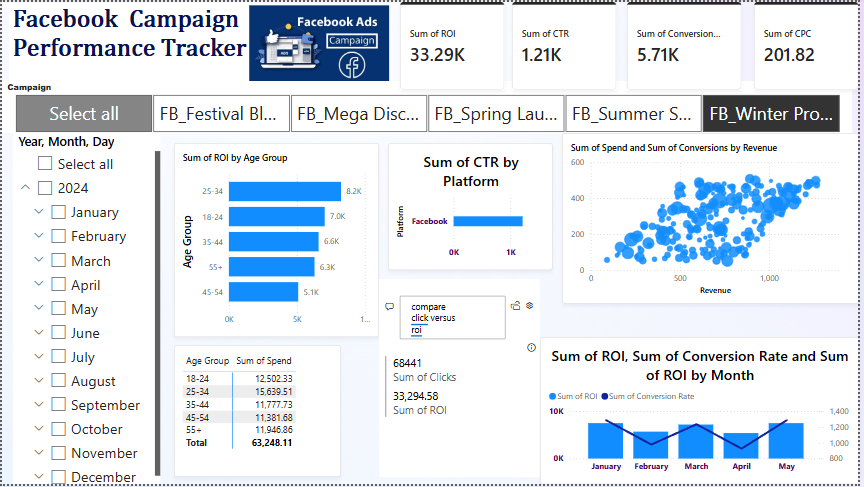

This screenshot's page, from the dashboard's own definition file:
{"tool":"powerbi","page":{"name":" Page 3","canvas":[1280,720],"ordinal":2},"visuals":[{"type":"textbox","box":[10.5,0,360,118],"z":0},{"type":"image","box":[288.3,0,372,131.5],"z":1000},{"type":"slicer","fields":{"Values":["Sheet1.Campaign"]},"box":[0,118,1269.7,77.7],"z":4000},{"type":"slicer","fields":{"Values":["Sheet1.Date.Variation.Date Hierarchy.Year","Sheet1.Date.Variation.Date Hierarchy.Month","Sheet1.Date.Variation.Date Hierarchy.Day"]},"box":[16.4,195.7,219.6,524.3],"z":5000},{"type":"clusteredBarChart","fields":{"Y":["Sum(Sheet1.ROI)"],"Category":["Sheet1.Age Group"]},"box":[256.9,210.6,306.2,289.8],"z":7000},{"type":"cardVisual","fields":{"Data":["Sum(Sheet1.ROI)"]},"box":[594.5,0,156.8,131.5],"z":8000},{"type":"scatterChart","fields":{"Size":["Sum(Sheet1.Conversions)"],"X":["Sheet1.Revenue"],"Y":["Sum(Sheet1.Spend)"]},"box":[836.5,195.7,443.7,255.4],"z":9000},{"type":"lineClusteredColumnComboChart","fields":{"Y":["Sum(Sheet1.ROI)"],"Category":["Sheet1.Date.Variation.Date Hierarchy.Month"],"Y2":["Sum(Sheet1.Conversion Rate)"]},"box":[803.7,500.4,476.5,219.6],"z":10000},{"type":"pivotTable","fields":{"Values":["Sum(Sheet1.Spend)"],"Rows":["Sheet1.Age Group"]},"box":[256.9,512.4,249.5,197.2],"z":11000},{"type":"barChart","fields":{"Category":["Sheet1.Platform"],"Y":["Sum(Sheet1.CTR)"]},"box":[576.6,210.6,246.5,189.7],"z":12000},{"type":"cardVisual","fields":{"Data":["Sum(Sheet1.CTR)"]},"box":[761.8,0,156.8,131.5],"z":12001},{"type":"cardVisual","fields":{"Data":["Sum(Sheet1.Conversion Rate)"]},"box":[933.6,0,171.8,131.5],"z":12002},{"type":"cardVisual","fields":{"Data":["Sum(Sheet1.CPC)"]},"box":[1123.3,0,156.8,131.5],"z":12003},{"type":"qnaVisual","box":[563.2,413.8,240.5,295.8],"z":12004}]}

Visuals, with their boxes in screenshot pixels (x1, y1, x2, y2), scaled from the page's 1280x720 canvas onto the 864x487 screenshot:
textbox: (x1=7, y1=0, x2=250, y2=80)
image: (x1=195, y1=0, x2=446, y2=89)
slicer - Sheet1.Campaign: (x1=0, y1=80, x2=857, y2=132)
slicer - Sheet1.Date.Variation.Date Hierarchy.Year x Sheet1.Date.Variation.Date Hierarchy.Month: (x1=11, y1=132, x2=159, y2=486)
clusteredBarChart - Sum(Sheet1.ROI) x Sheet1.Age Group: (x1=173, y1=142, x2=380, y2=338)
cardVisual - Sum(Sheet1.ROI): (x1=401, y1=0, x2=507, y2=89)
scatterChart - Sum(Sheet1.Conversions) x Sheet1.Revenue: (x1=565, y1=132, x2=863, y2=305)
lineClusteredColumnComboChart - Sum(Sheet1.ROI) x Sheet1.Date.Variation.Date Hierarchy.Month: (x1=542, y1=338, x2=863, y2=486)
pivotTable - Sum(Sheet1.Spend) x Sheet1.Age Group: (x1=173, y1=347, x2=342, y2=480)
barChart - Sheet1.Platform x Sum(Sheet1.CTR): (x1=389, y1=142, x2=556, y2=271)
cardVisual - Sum(Sheet1.CTR): (x1=514, y1=0, x2=620, y2=89)
cardVisual - Sum(Sheet1.Conversion Rate): (x1=630, y1=0, x2=746, y2=89)
cardVisual - Sum(Sheet1.CPC): (x1=758, y1=0, x2=863, y2=89)
qnaVisual: (x1=380, y1=280, x2=542, y2=480)
